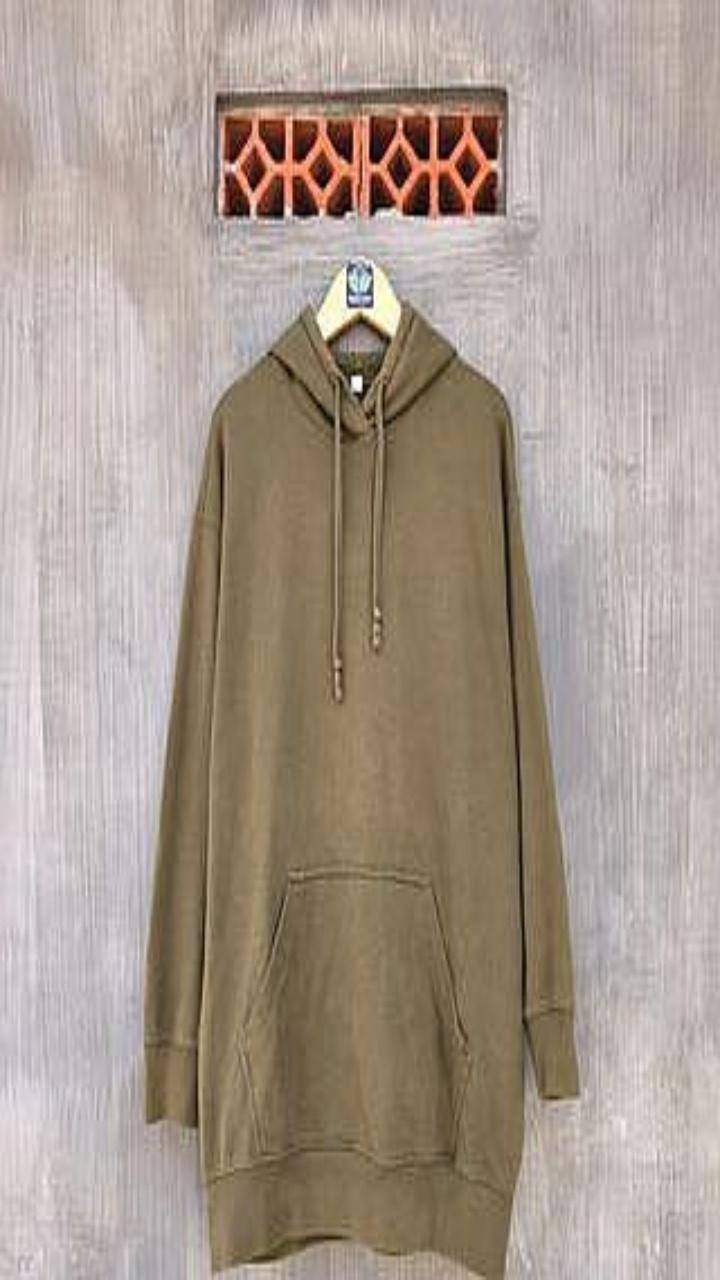Hoodie: (146, 300, 578, 1277)
